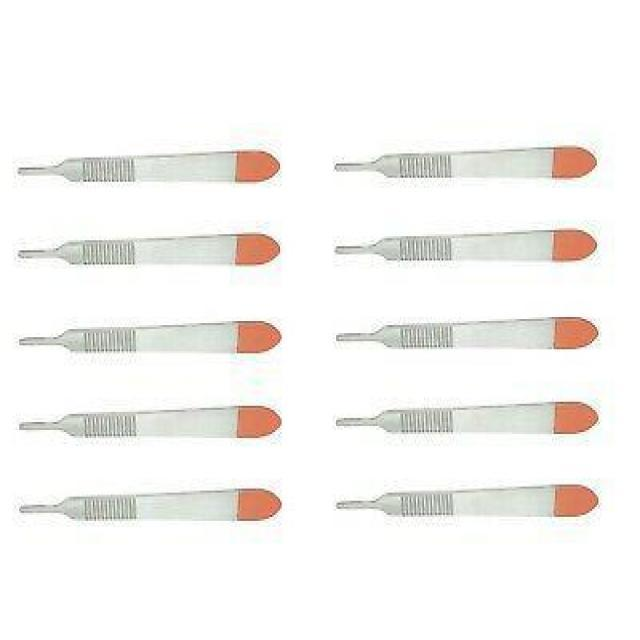Scalpel: (14, 228, 280, 273), (18, 314, 284, 358), (15, 145, 282, 188), (16, 484, 283, 527), (19, 402, 285, 444), (333, 396, 597, 438), (332, 312, 602, 353), (330, 482, 600, 523), (329, 143, 596, 184), (334, 226, 598, 267)
